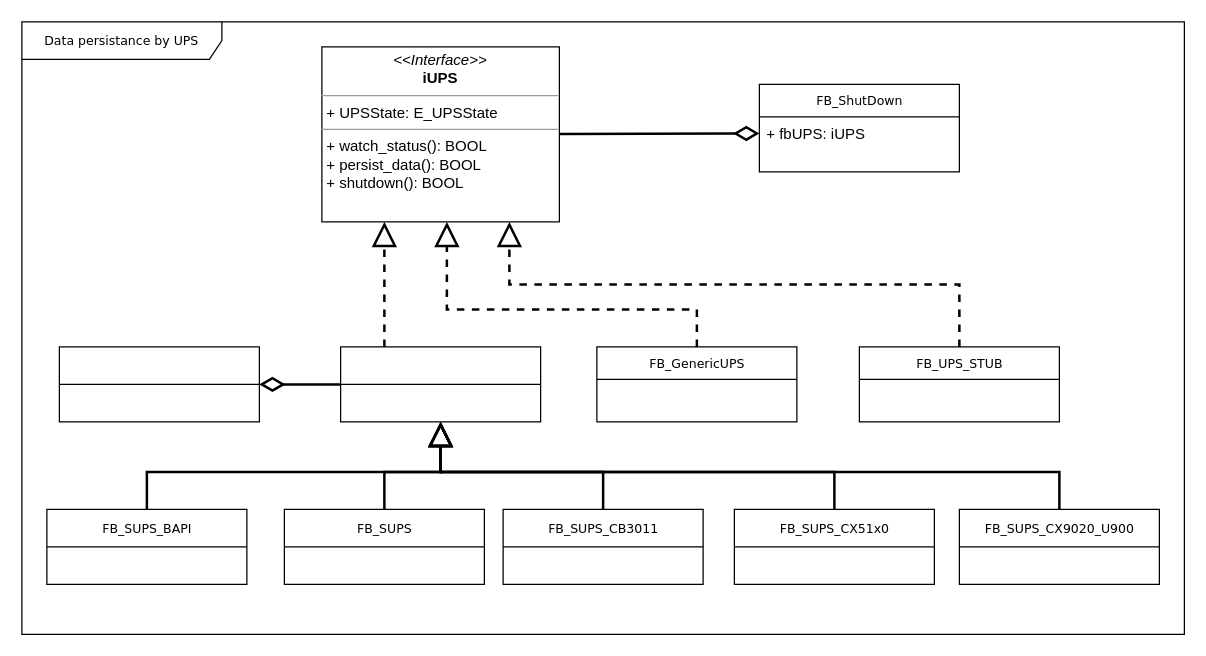
This 1206x656 diagram has some shape labels left out. The shapes that lost their labels are listed below. From the top down, each one's centre as x and y in pixels, then its label:
At point (158, 384): "FB_NT_QuickShutdown".
At point (440, 384): "FB_SUPS_BASE".
